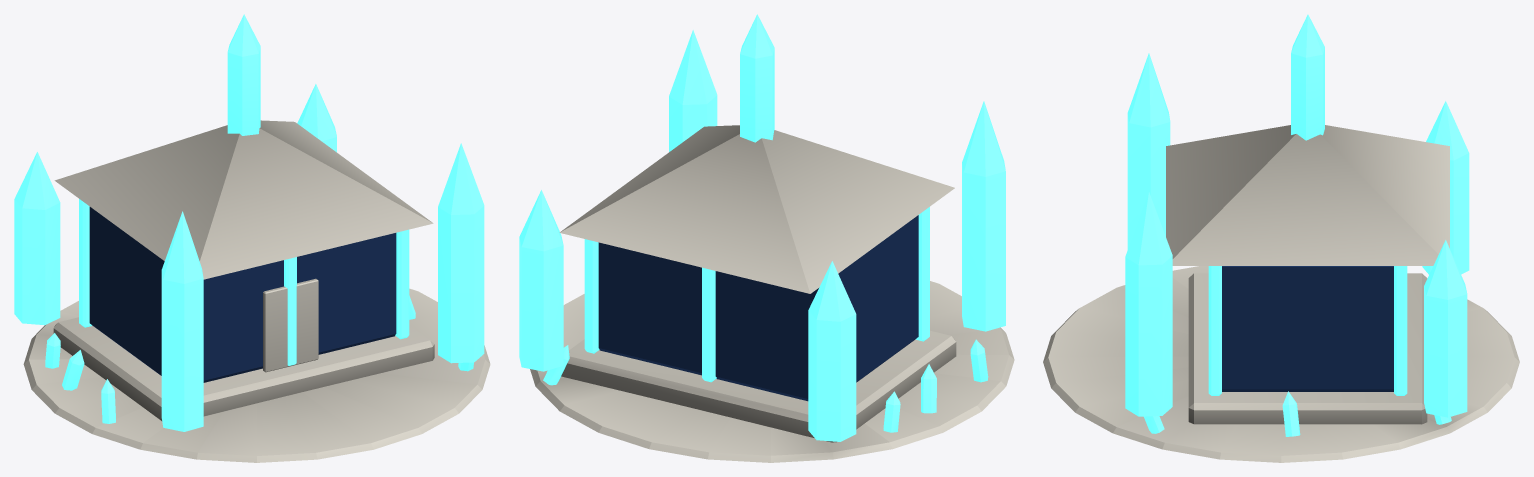
Rendered from bld_ledyanoy_chertog.glb.
3 renders of one model, left to right at view 1: azimuth 30°, elevation 25°; view 2: azimuth 150°, elevation 25°; view 3: azimuth 270°, elevation 25°, orthographic. The views are drawn at different scales.
Parts seen in each view (by area): view 1: ledyanoy_chertog; view 2: ledyanoy_chertog; view 3: ledyanoy_chertog.
Part boxes in pixels (<box>): ledyanoy_chertog: <box>14,14,490,462</box>; ledyanoy_chertog: <box>519,14,1014,462</box>; ledyanoy_chertog: <box>1043,14,1519,462</box>.
Bounding box in the file's own units: 1.8 × 1.45 × 1.8.
